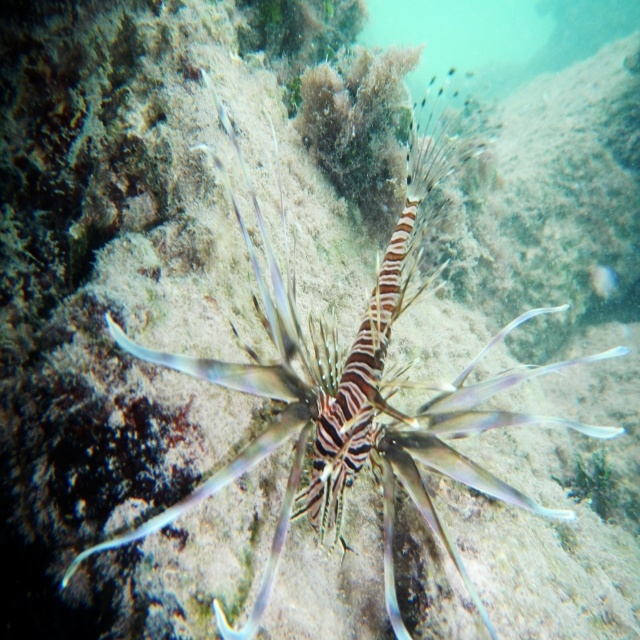Fish: (58, 67, 632, 640)
